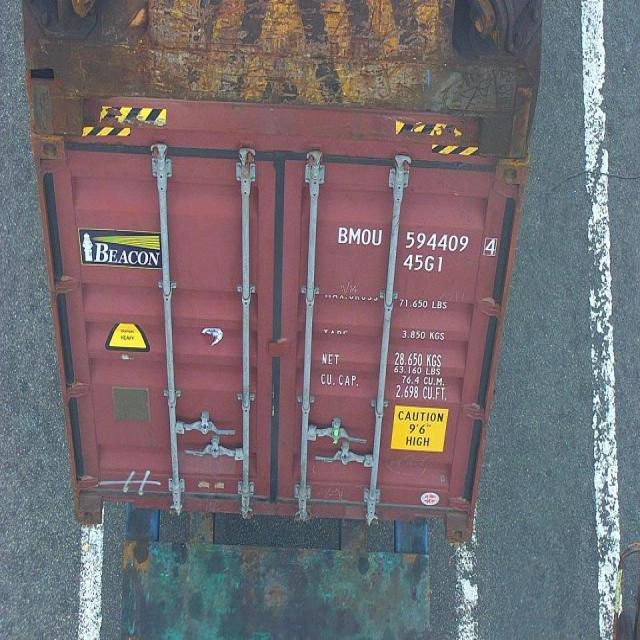ISO: (403, 253, 447, 272)
container_number: (340, 226, 498, 251)
